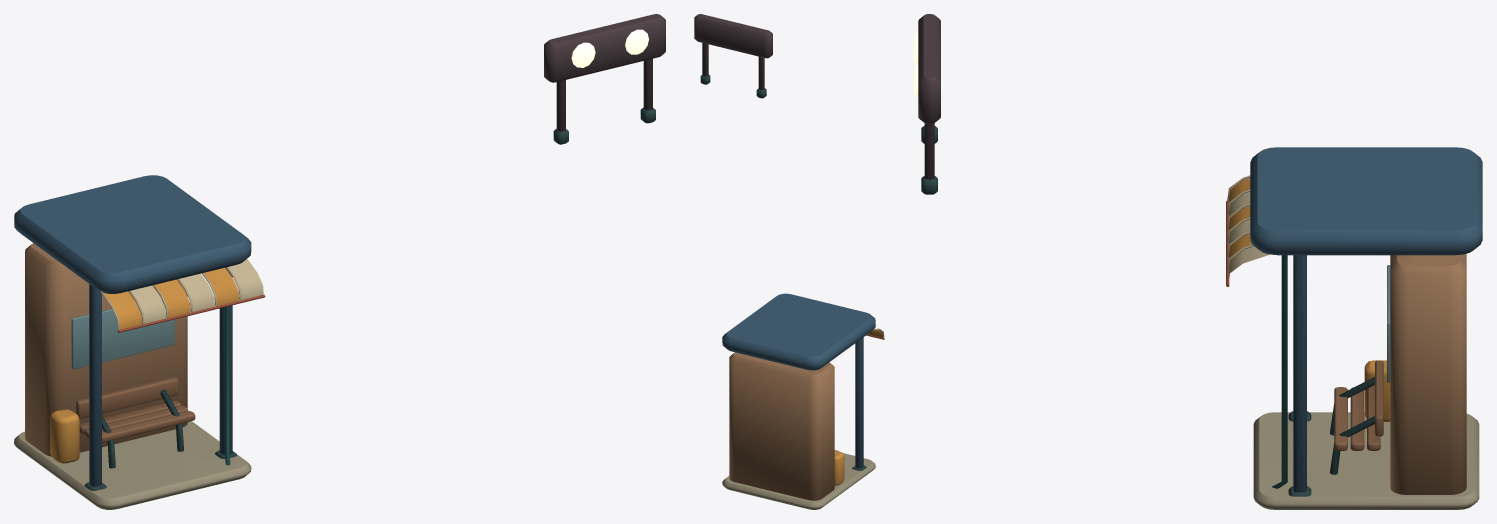
File: alpine_motel_4.glb
The picture shows the model from 3 angles, left to right: view 1: azimuth 30°, elevation 25°; view 2: azimuth 150°, elevation 25°; view 3: azimuth 270°, elevation 25°; orthographic projection. The views are drawn at different scales.
Visible parts, largest first — view 1: Motel4; view 2: Motel4; view 3: Motel4.
Boxes of the visible parts, <box> form: Motel4: <box>14,14,665,509</box>; Motel4: <box>694,14,884,509</box>; Motel4: <box>913,14,1482,509</box>.
Size of the model in its own units: 6.33 by 7.11 by 6.25.
